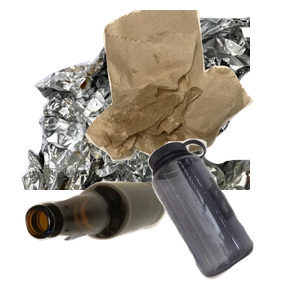glass: (23, 179, 183, 300)
metal: (19, 14, 259, 194)
plastic: (145, 136, 300, 300)
trash: (83, 10, 300, 163)
